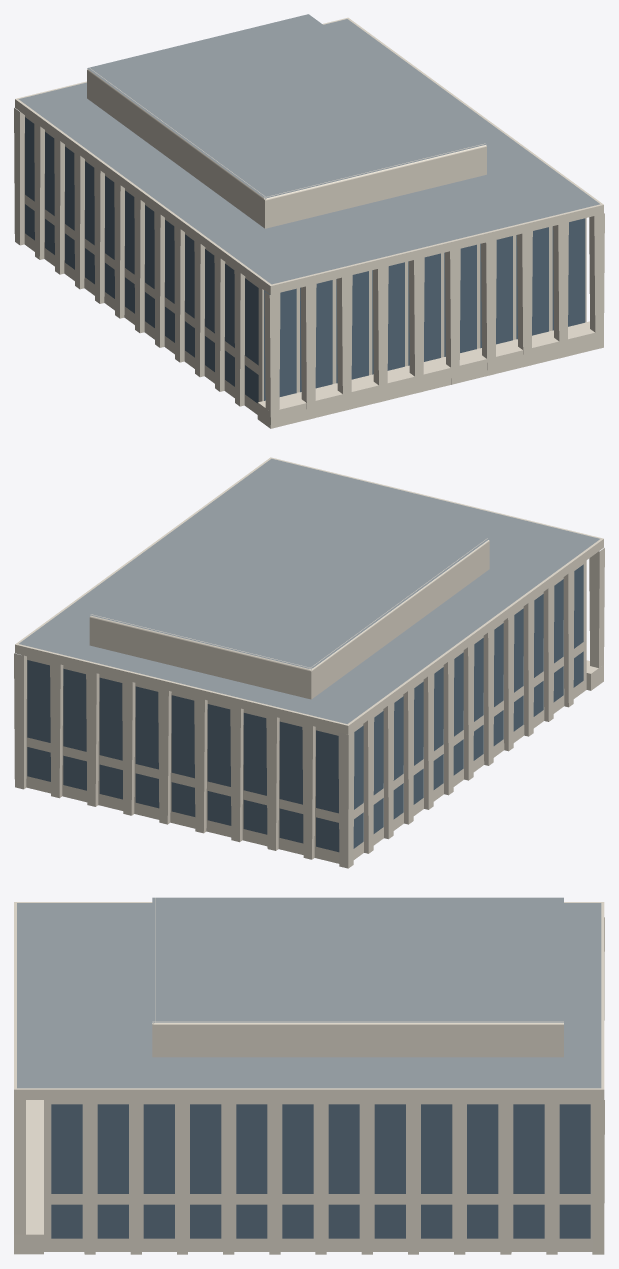
The model's file is nyc-david-geffen-hall.glb.
The picture shows the model from 3 angles, top to bottom: view 1: azimuth 30°, elevation 25°; view 2: azimuth 150°, elevation 25°; view 3: azimuth 270°, elevation 25°; orthographic projection. The views are drawn at different scales.
Visible parts, largest first — view 1: David Geffen Hall; view 2: David Geffen Hall; view 3: David Geffen Hall.
Part boxes in pixels (box(x1,y1,x2,y2)): David Geffen Hall: box(14, 14, 604, 428); David Geffen Hall: box(14, 457, 604, 868); David Geffen Hall: box(14, 897, 604, 1254).
Bounding box in the file's own units: 59.7 × 29.5 × 79.
